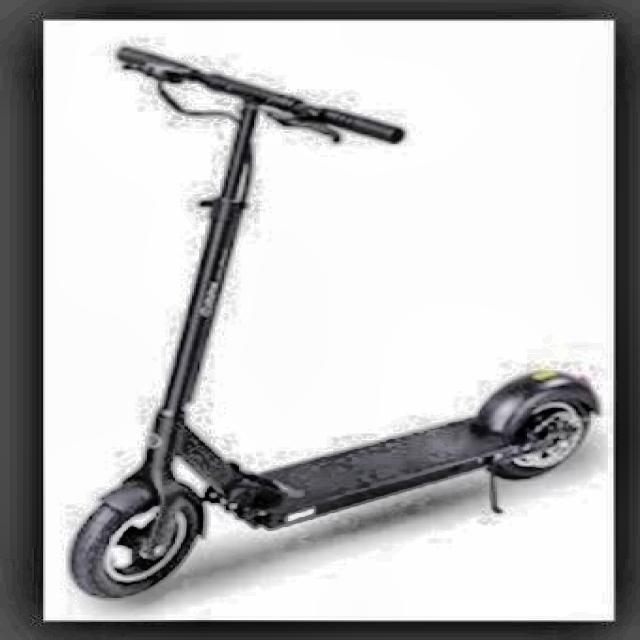bike: (69, 36, 599, 599)
